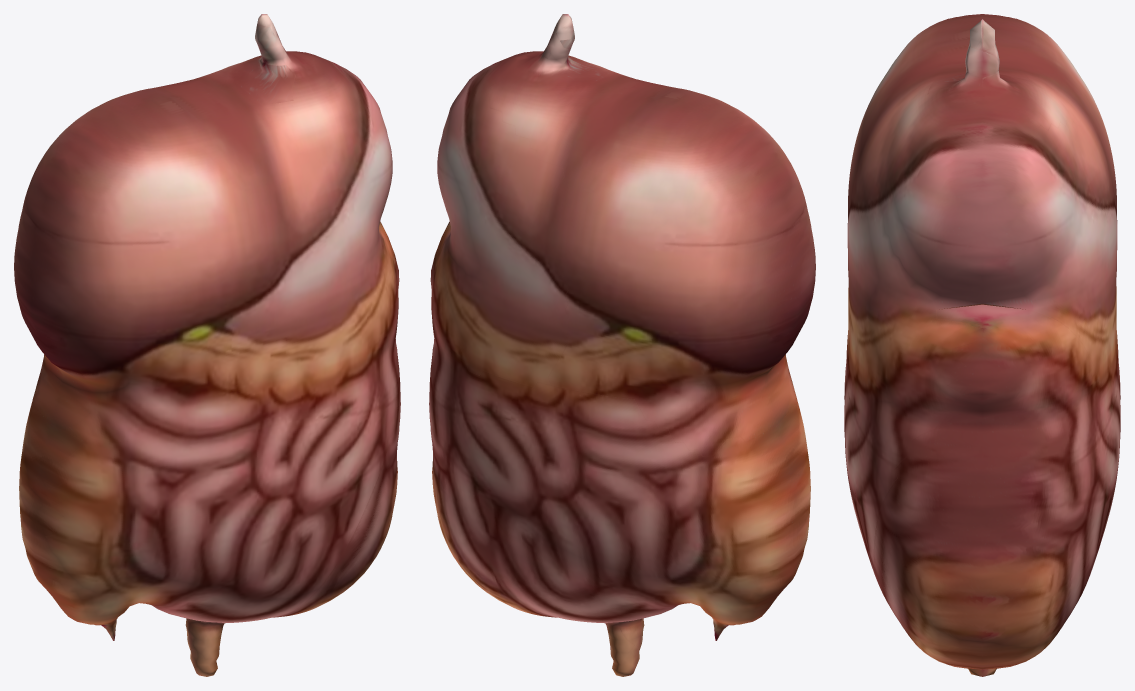
The picture shows the model from 3 angles, left to right: view 1: azimuth 30°, elevation 25°; view 2: azimuth 150°, elevation 25°; view 3: azimuth 270°, elevation 25°; orthographic projection. The views are drawn at different scales.
Parts seen in each view (by area): view 1: Object_5; view 2: Object_5; view 3: Object_5.
Boxes of the visible parts, x1,y1,x2,y2 form: Object_5: [14, 14, 400, 676]; Object_5: [429, 14, 815, 676]; Object_5: [844, 14, 1120, 676].
Bounding box in the file's own units: 0.773 × 1.34 × 0.4892.
1 material, 1 textured.
